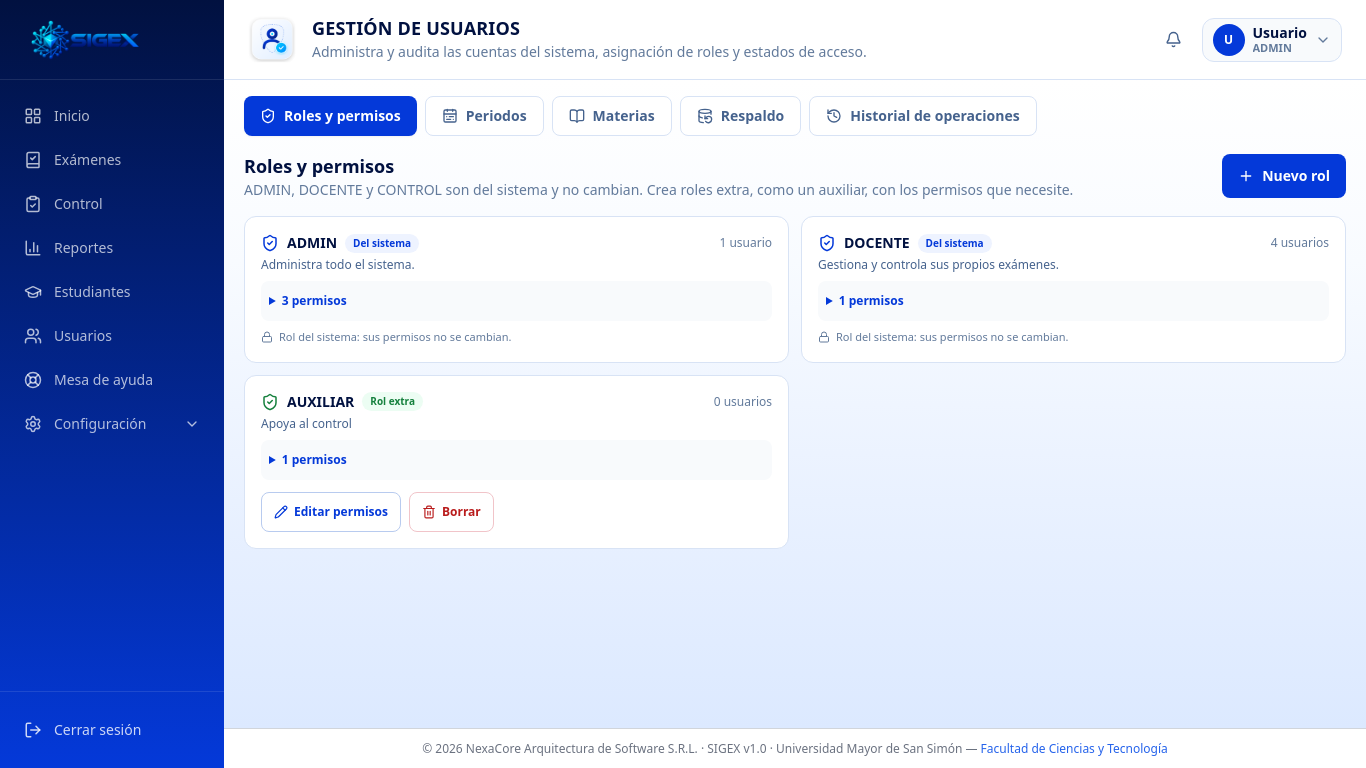
Scenario: Configuración → Roles y permisos › crea un rol extra con los permisos marcados y no ofrece los que son solo del ADMIN
The width and height of the screenshot is (1366, 768).
Later steps or results of the test are not shown.
Click the button "Nuevo rol" at (1284, 176), box [1222,154,1346,198]
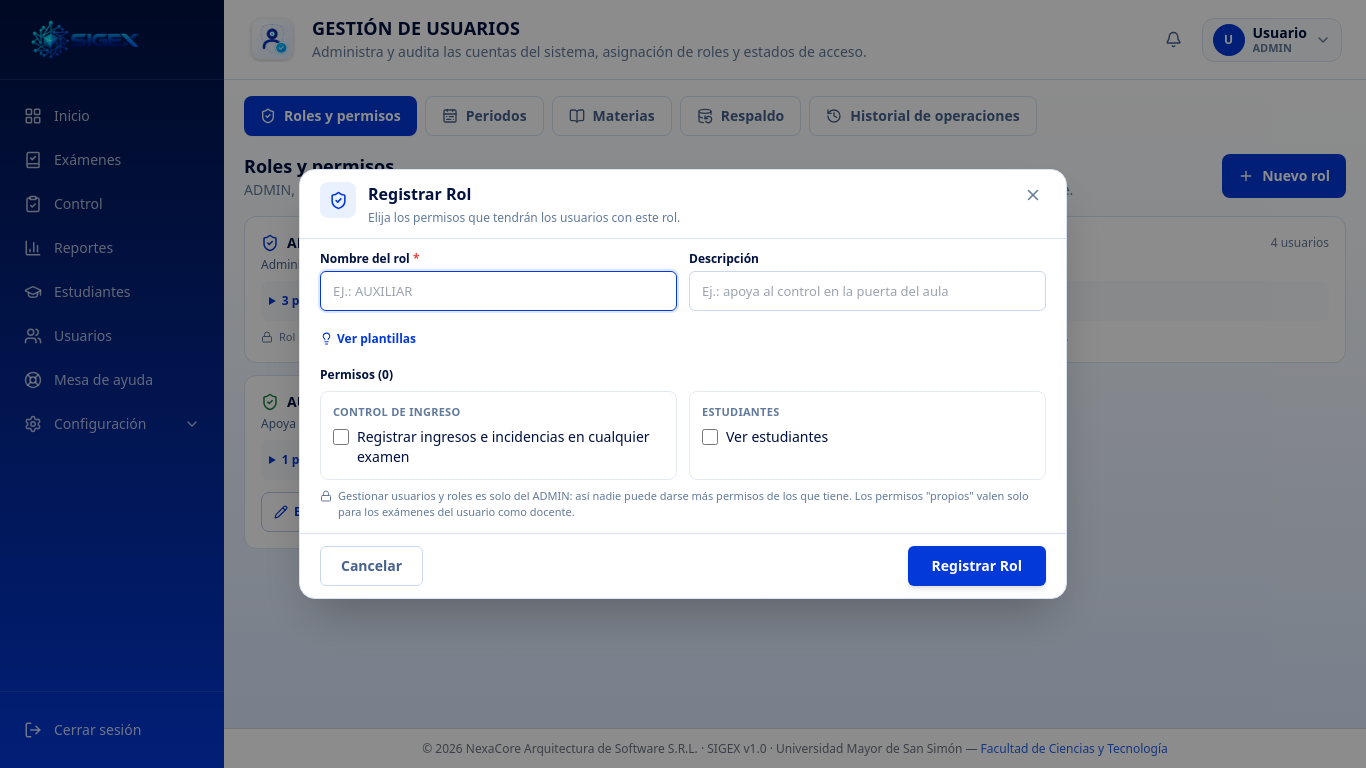
Type "supervisor" into the field labelled "Nombre del rol *" at (498, 291), box [320,271,677,311]
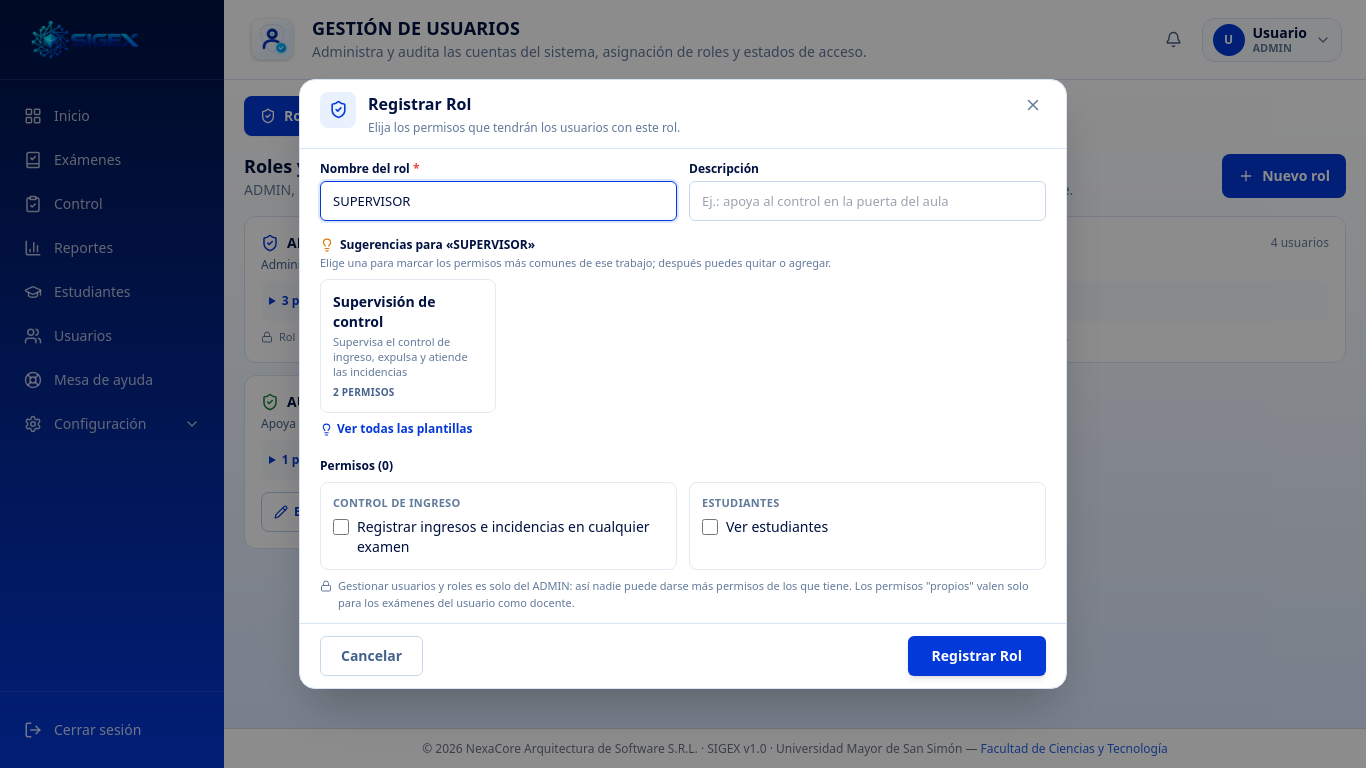
Type "Supervisa el control de ingreso" into the field labelled "Descripción" at (868, 201), box [689,181,1046,221]
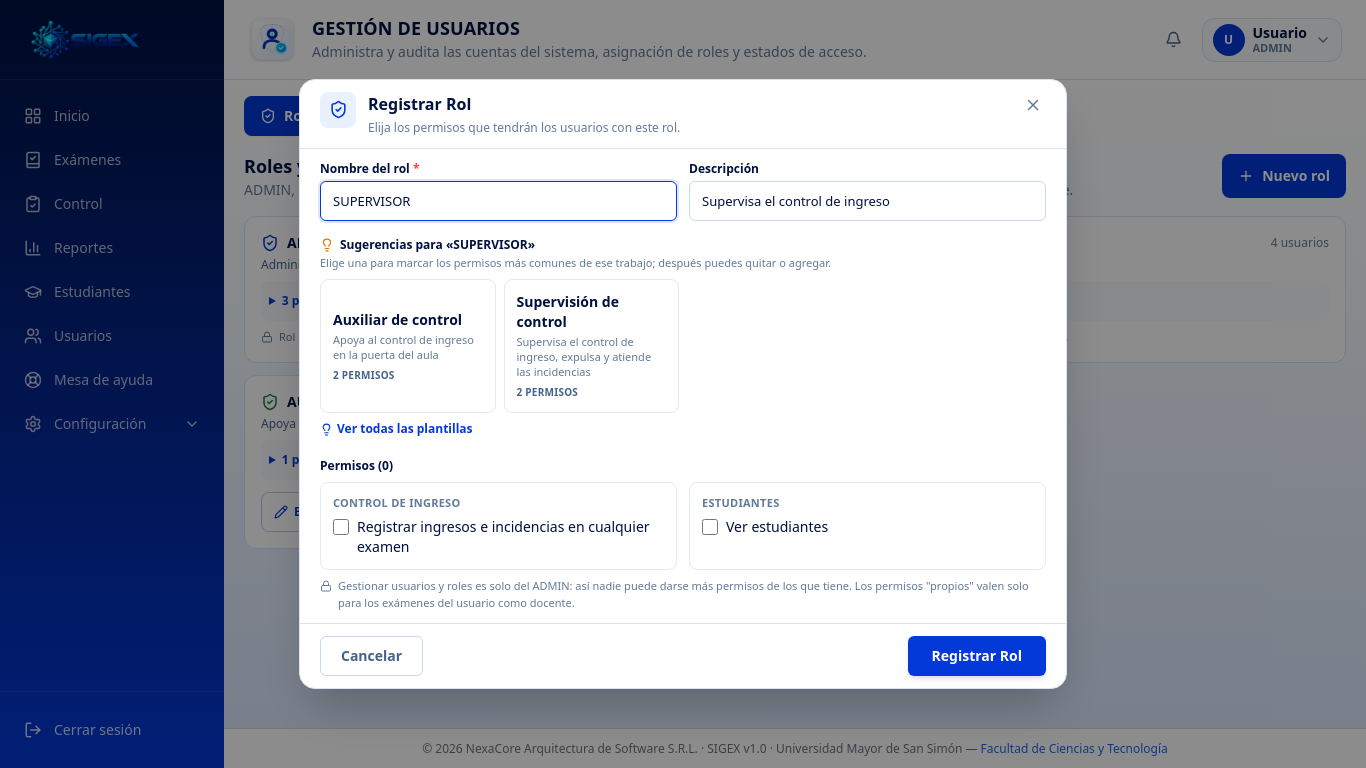
Click the button "Registrar Rol" at (977, 656), box [908,636,1046,676]
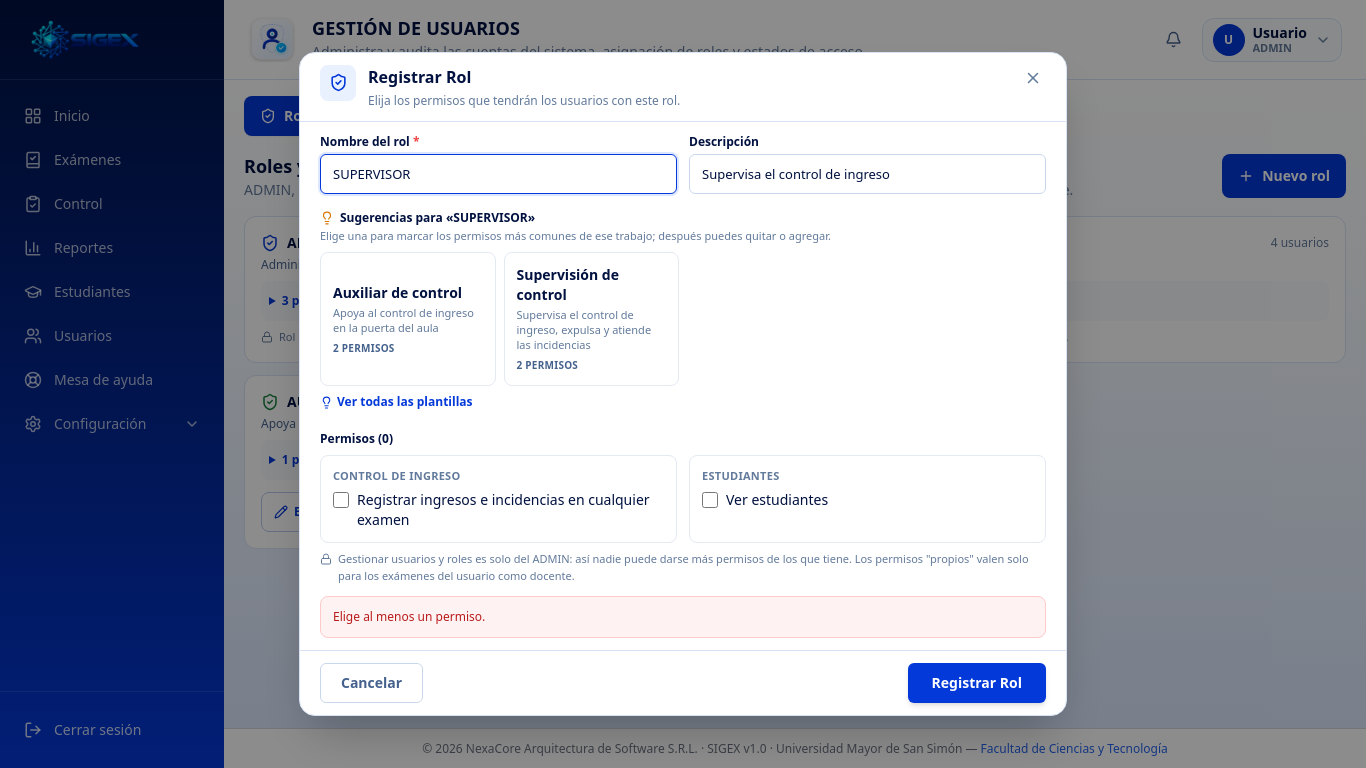
Check: the message shows "Elige al menos un permiso", box [333,608,485,625]
